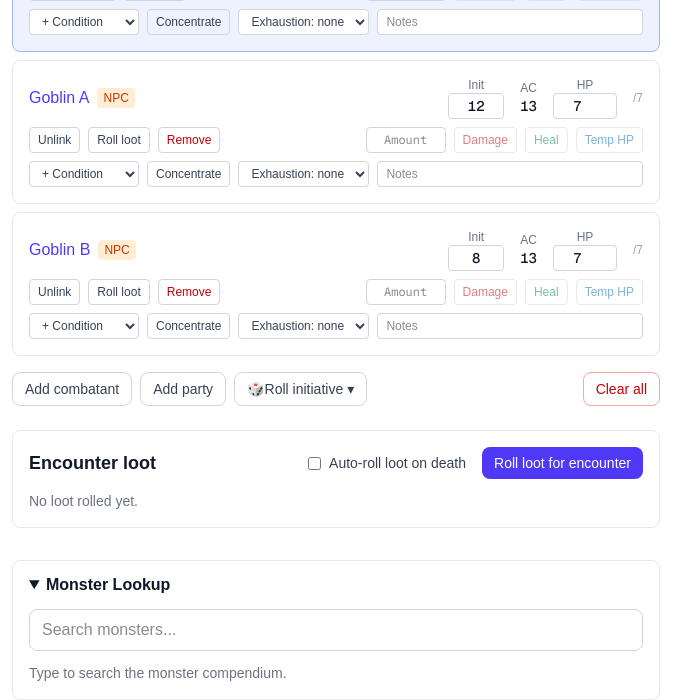
Test: InitiativeTrackerPage › encounter loot › rolls loot for the whole encounter and shows per-monster drops plus the aggregated total
(page scrolled)
Click the button "Roll loot for encounter": (562, 463) [482,447,643,479]
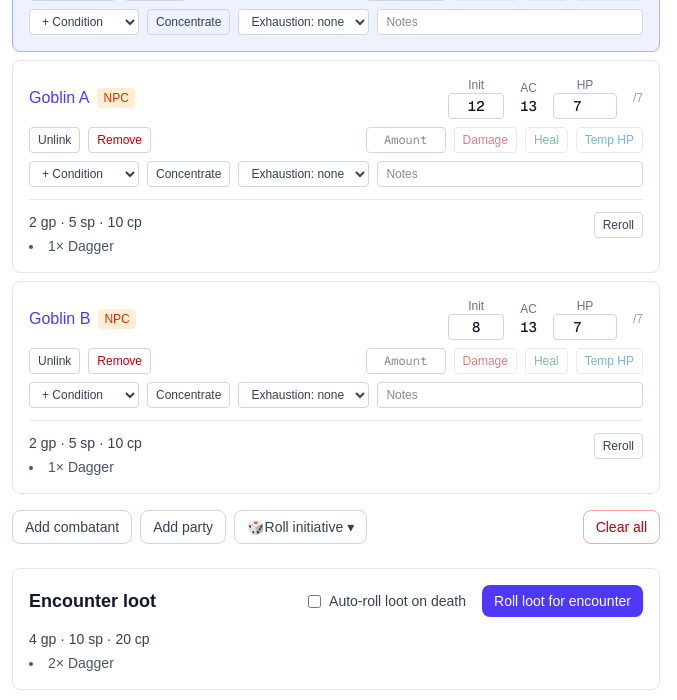
Now the text "2 gp · 5 sp · 10 cp" is shown 2 times, box [29,214,142,230]; [29,435,142,451]
Now the text "4 gp · 10 sp · 20 cp" is shown, box [29,631,150,647]
Now the list item "2× Dagger" is shown, box [48,655,114,671]
